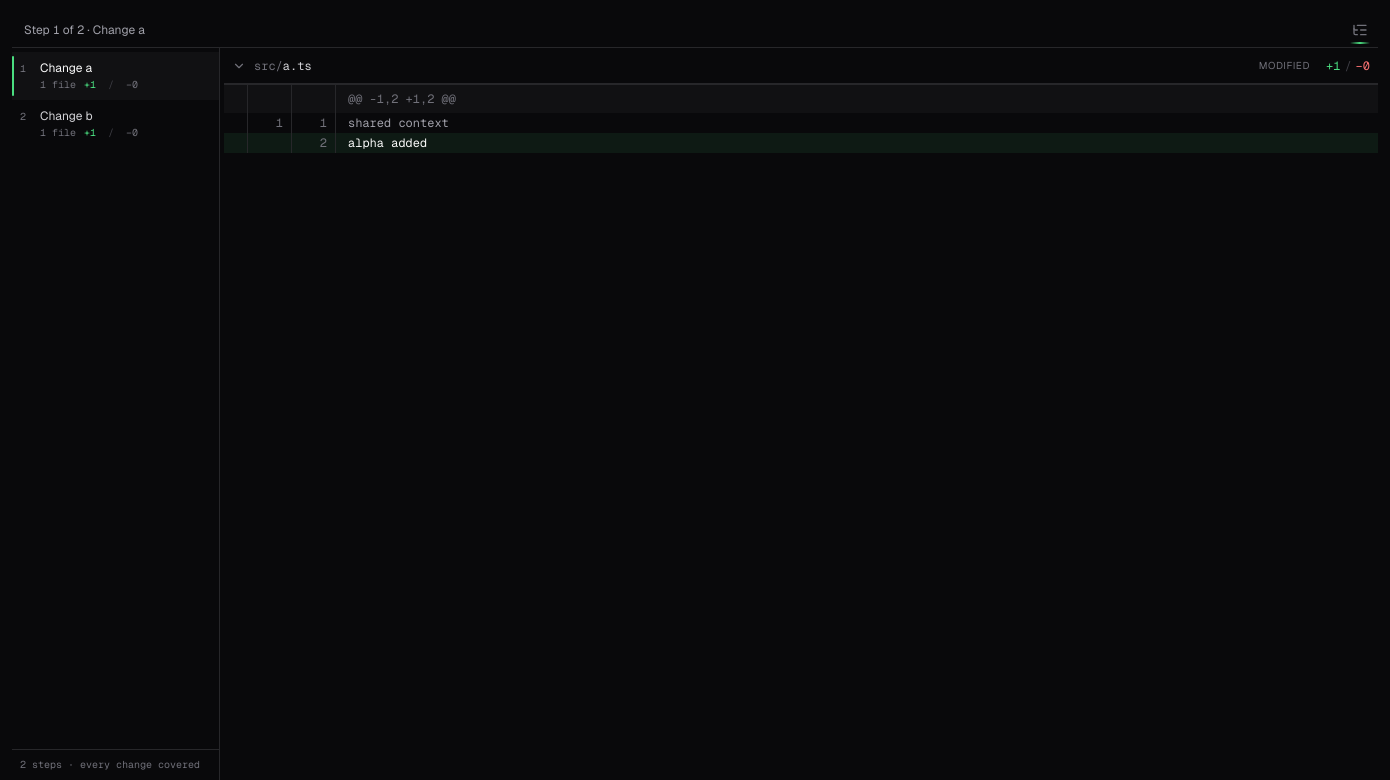
Scenario: DiffView › path mode shows only the active step and switches steps from the rail
The image size is (1390, 780).
Expected: the text "alpha added" is shown, [348, 135, 427, 151]
Expected: the text "beta added" is not shown
Click the button "2 Change b 1 file +1 / −0".
click(116, 124)  # box [12, 100, 219, 148]
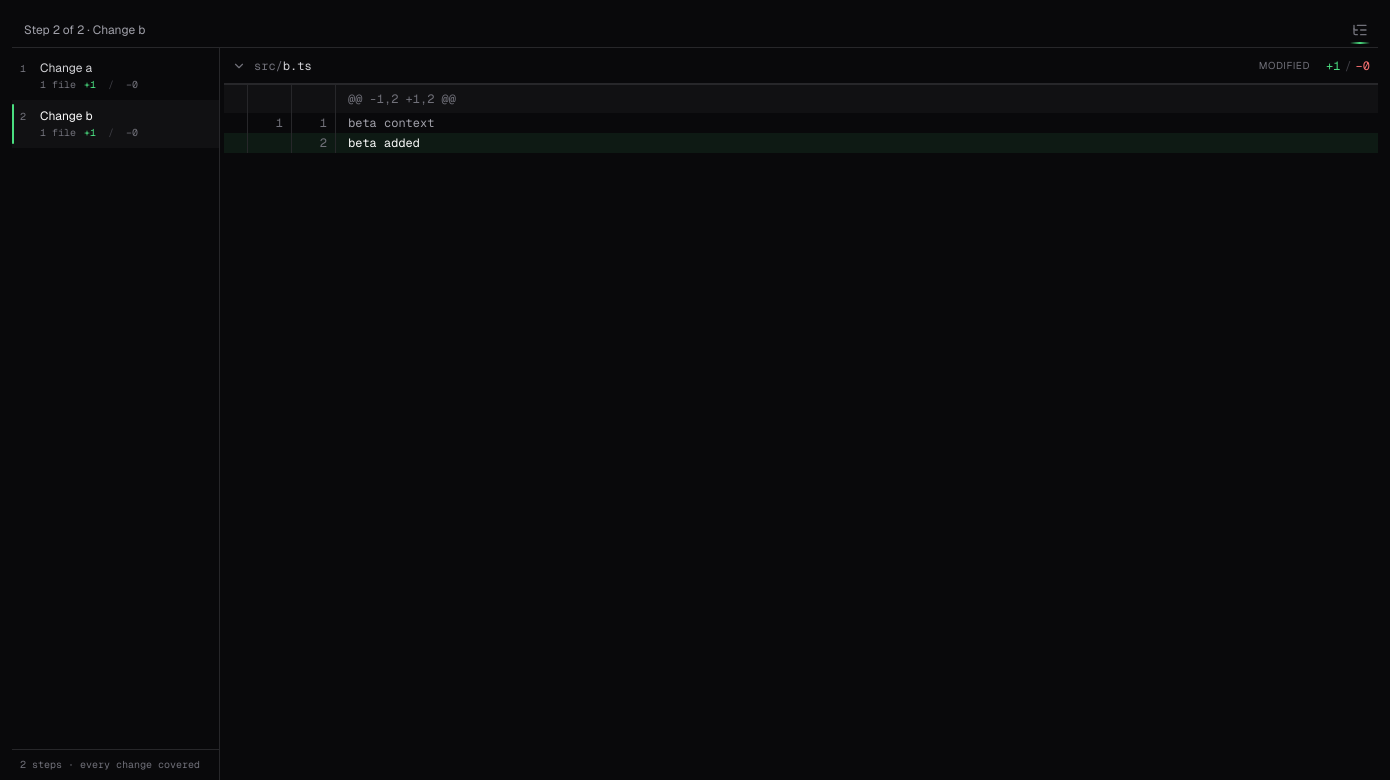
Now the text "beta added" is shown, box [348, 135, 420, 151]
Now the text "alpha added" is gone
